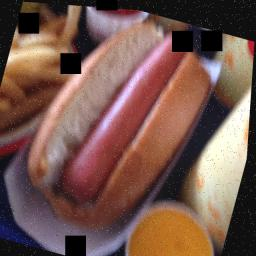hotdog: (126, 22, 189, 152), (94, 48, 154, 164), (54, 119, 126, 212)
